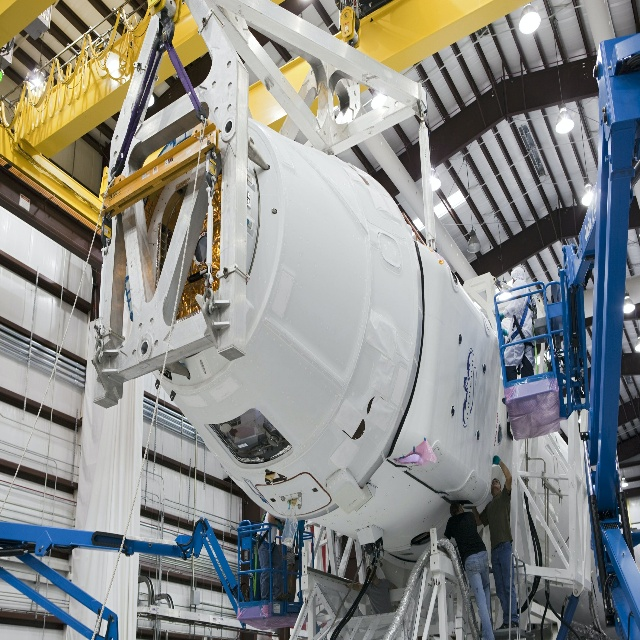Gafas: (491, 478, 499, 484)
Guantes: (492, 455, 501, 465), (499, 312, 504, 323), (502, 327, 508, 336)
